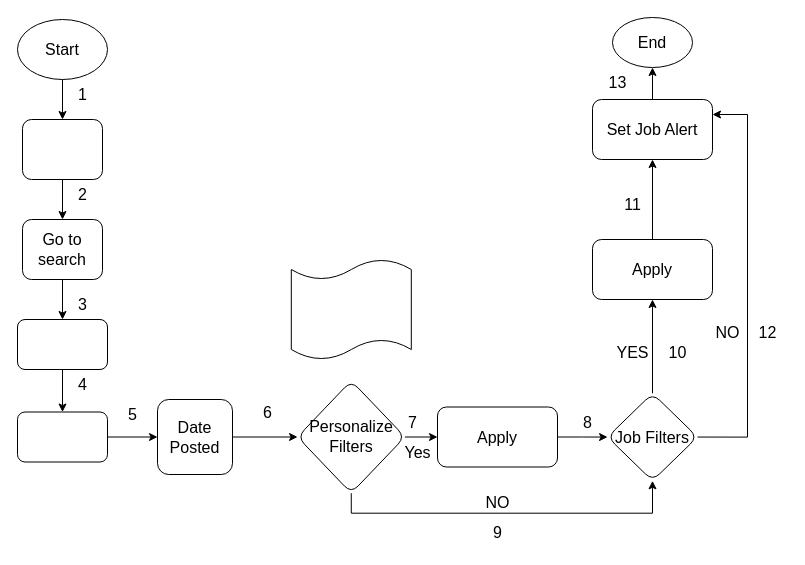
This 805x565 diagram has some shape labels left out. Here are the shapes that lost their labels. From the top down, the box of each, then its label:
(22, 118, 102, 180): Logged in
(290, 258, 411, 360): Choose from dropdown any one of option
(16, 318, 108, 370): Give job name
(16, 411, 108, 462): Click on job button
